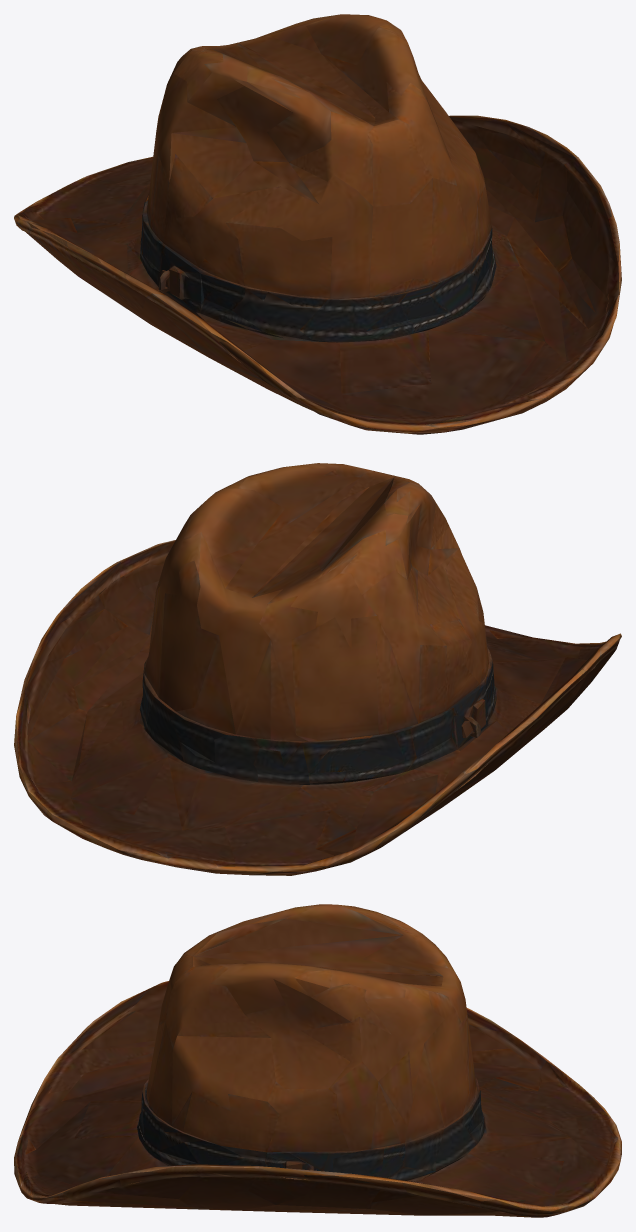
File: cowboy.glb
3 renders of one model, top to bottom at view 1: azimuth 30°, elevation 25°; view 2: azimuth 150°, elevation 25°; view 3: azimuth 270°, elevation 25°, orthographic. The views are drawn at different scales.
Size of the model in its own units: 1.52 by 0.7934 by 1.9.
1 material, 1 textured.
